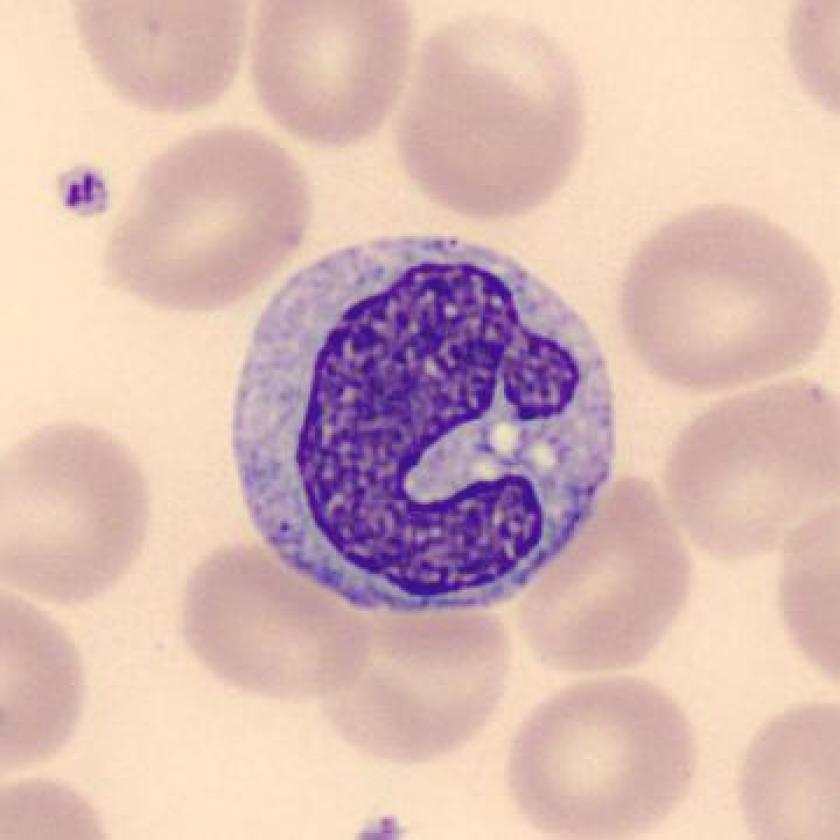monocyte: (213, 214, 643, 628)
